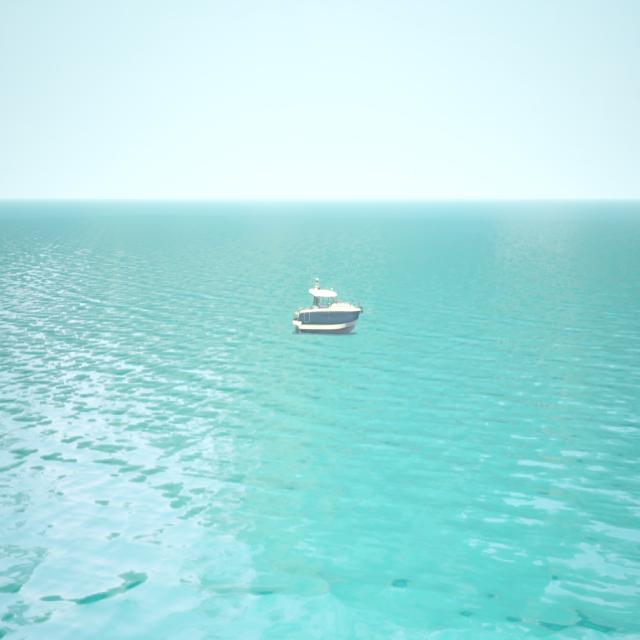ship: (292, 276, 363, 332)
